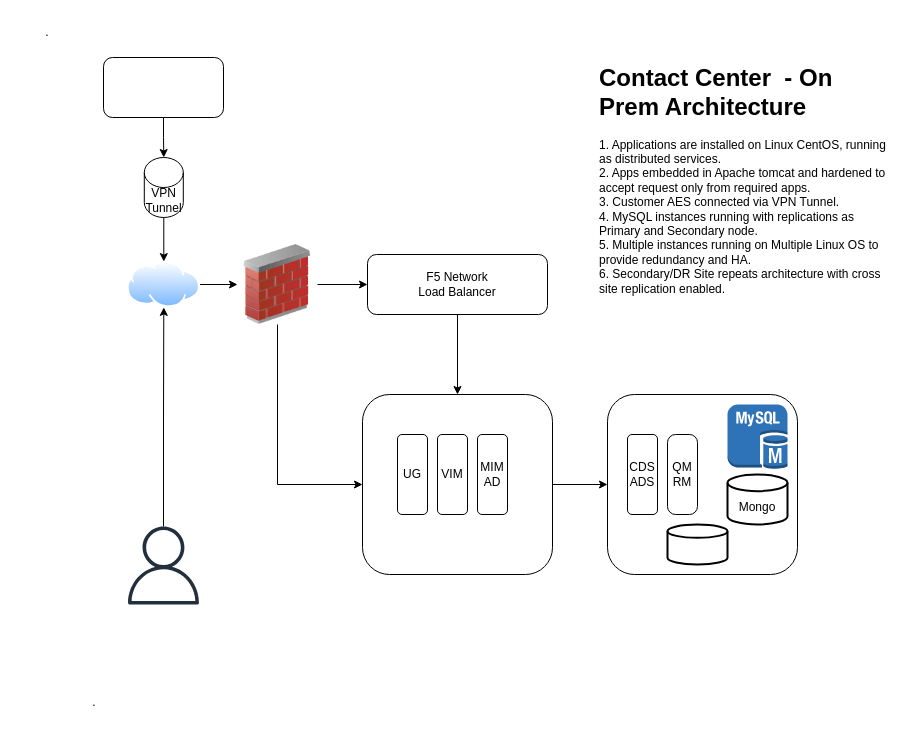
This 914x734 diagram has some shape labels left out. Each missing label, with the centre of its shape:
Customer Avaya CM/AES: pixel 163 87
Enterprise Firewall: pixel 277 284
Ignite DB: pixel 697 544
Internet: pixel 163 284
